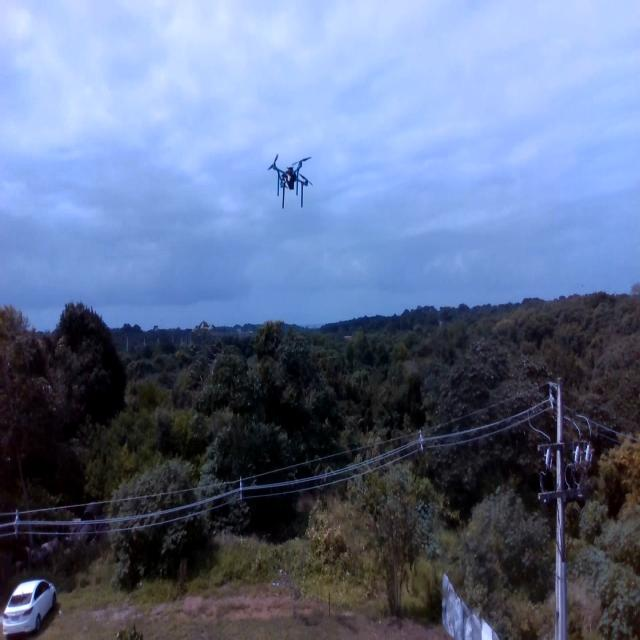-uav-: (264, 138, 314, 213)
